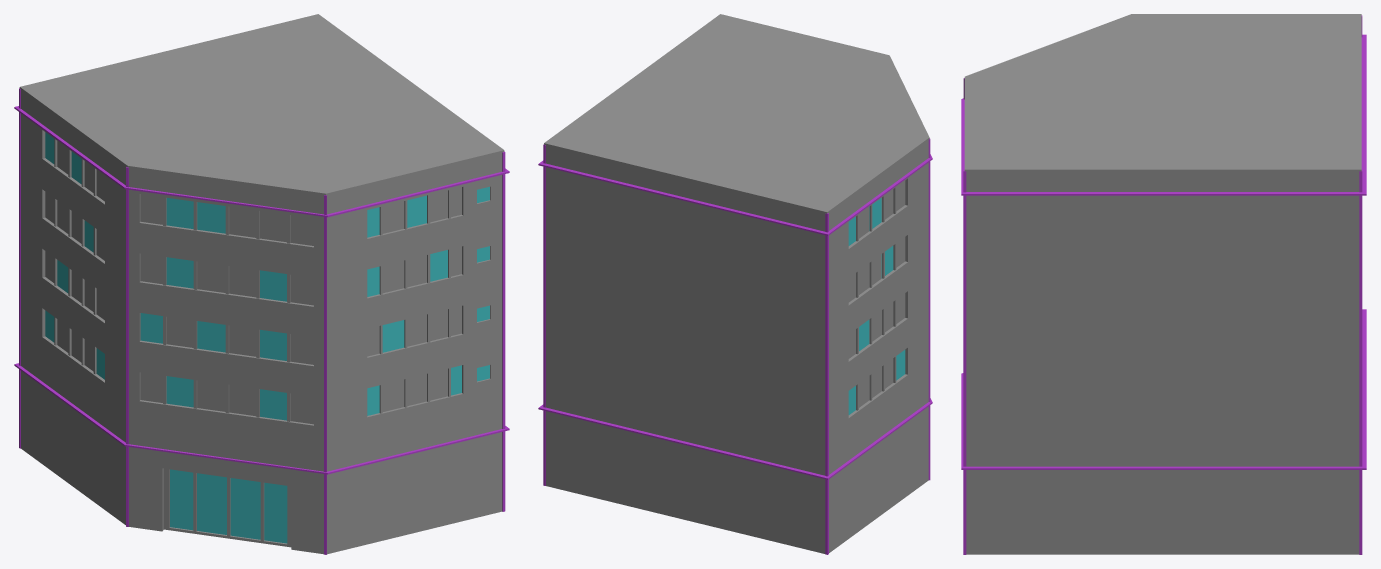
Rendered from buildings_S_03_VAR3 1.fbx.
3 renders of one model, left to right at view 1: azimuth 30°, elevation 25°; view 2: azimuth 150°, elevation 25°; view 3: azimuth 270°, elevation 25°, orthographic. The views are drawn at different scales.
Parts seen in each view (by area): view 1: buildings_S_03_VAR3; view 2: buildings_S_03_VAR3; view 3: buildings_S_03_VAR3.
Boxes of the visible parts, x1,y1,x2,y2 form: buildings_S_03_VAR3: (14, 14, 509, 554); buildings_S_03_VAR3: (538, 14, 932, 554); buildings_S_03_VAR3: (961, 14, 1366, 554).
Bounding box in the file's own units: 15.49 × 17.5 × 16.68.
